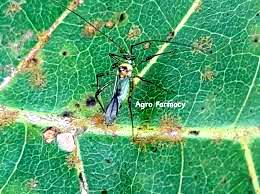Helopeltis-insect: (86, 54, 145, 124)
